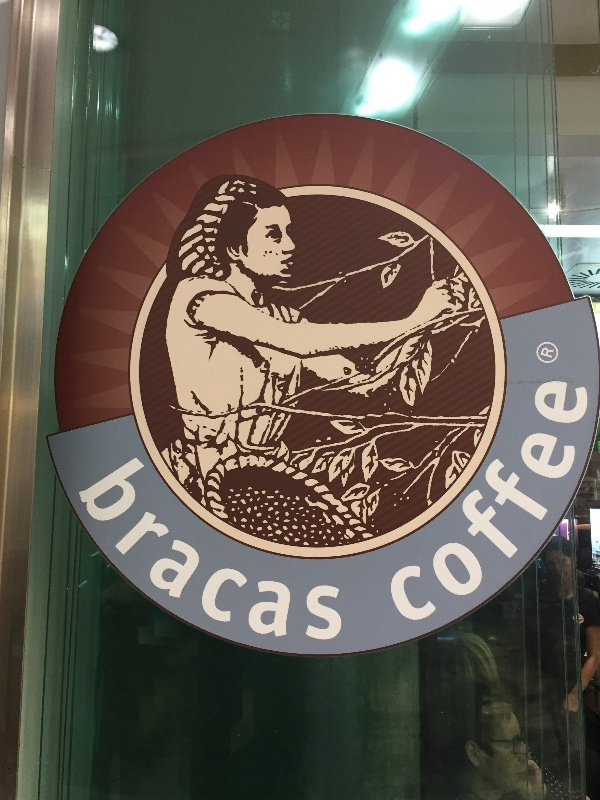text: (385, 370, 400, 712), (401, 370, 416, 712), (417, 370, 432, 712), (433, 370, 448, 712), (449, 370, 464, 712), (465, 370, 480, 712), (481, 370, 496, 712), (497, 370, 512, 712), (513, 370, 528, 712), (529, 370, 544, 712), (545, 370, 560, 712), (561, 370, 576, 712), (577, 370, 592, 712), (145, 456, 160, 683), (161, 456, 176, 683), (177, 456, 192, 683), (193, 456, 208, 683), (209, 456, 224, 683), (225, 456, 240, 683), (241, 456, 256, 683), (257, 456, 272, 683), (273, 456, 288, 683), (289, 456, 304, 683), (305, 456, 320, 683), (321, 456, 336, 683), (593, 370, 600, 712), (135, 456, 144, 683), (337, 456, 344, 683), (383, 370, 384, 712), (545, 348, 555, 358), (543, 348, 544, 358)
